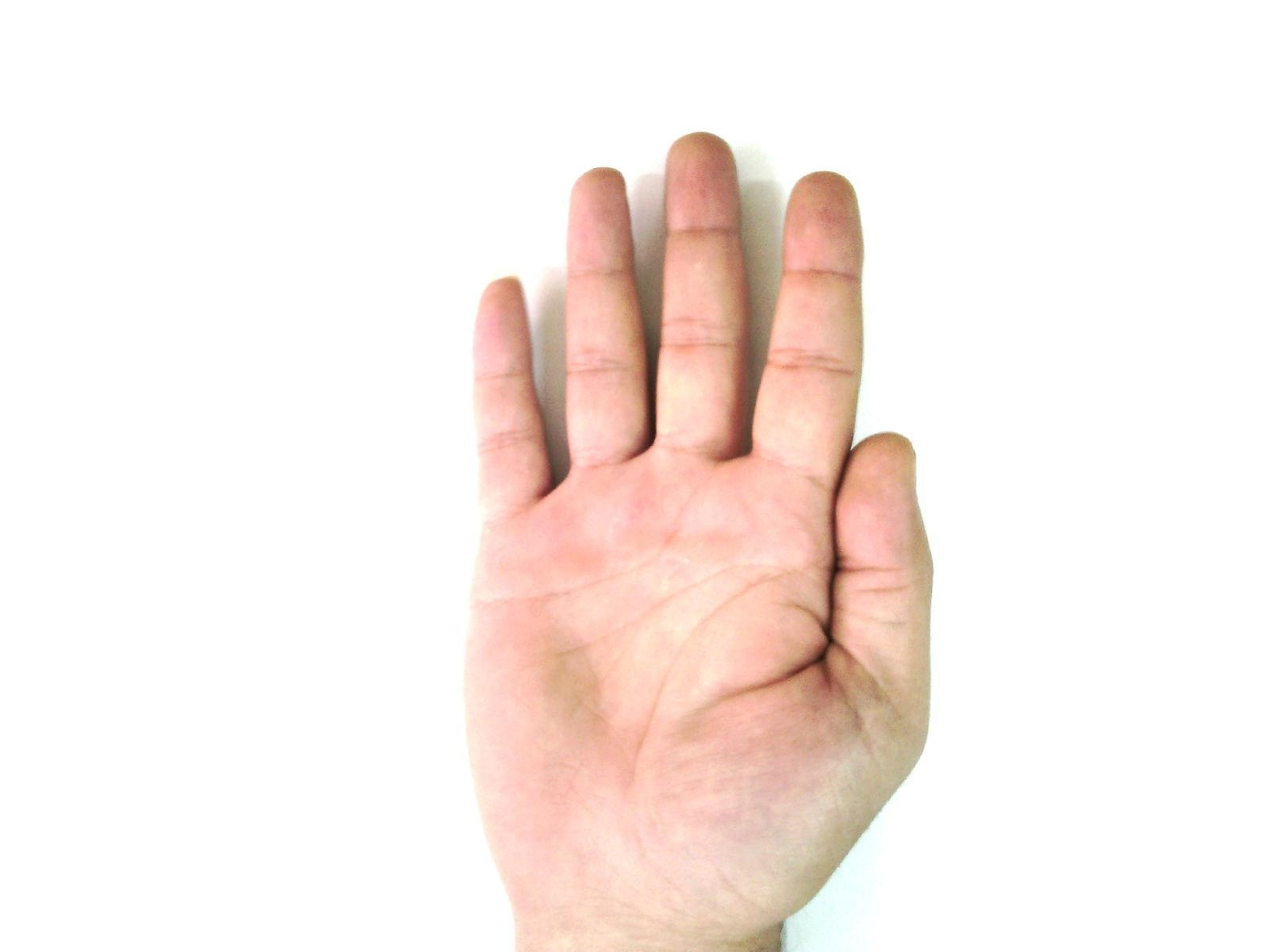open_palm: (459, 131, 937, 950)
